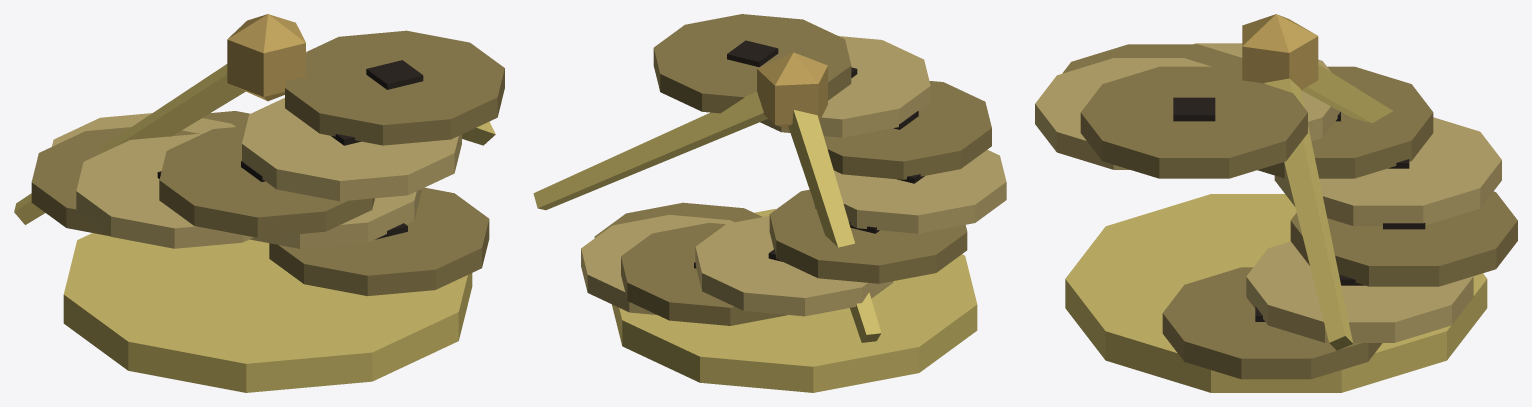
The model's file is prop_coin_bundle.glb.
3 views of the same model, side by side, from view 1: azimuth 30°, elevation 25°; view 2: azimuth 150°, elevation 25°; view 3: azimuth 270°, elevation 25° (orthographic). The views are drawn at different scales.
Visible parts, largest first — view 1: prop_coin_bundle; view 2: prop_coin_bundle; view 3: prop_coin_bundle.
Boxes of the visible parts, left/top/right/bottom form: prop_coin_bundle: left=14, top=14, right=504, bottom=392; prop_coin_bundle: left=533, top=14, right=1006, bottom=392; prop_coin_bundle: left=1035, top=14, right=1517, bottom=392.
Size of the model in its own units: 0.3255 by 0.2 by 0.2974.
